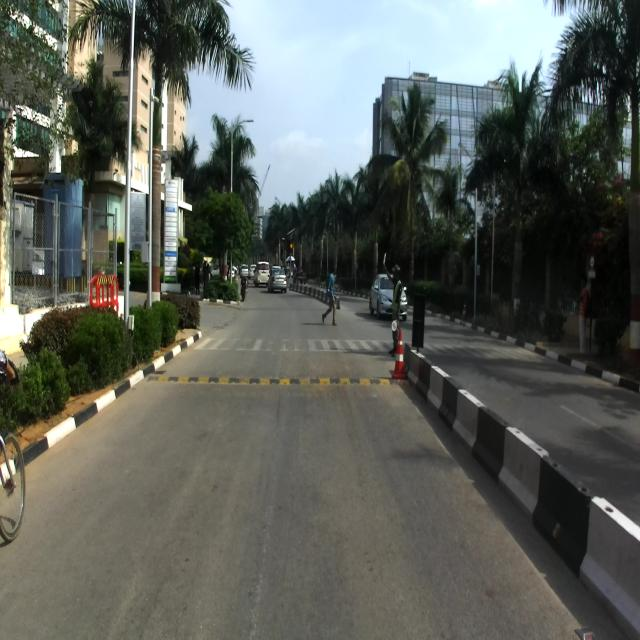barrier ahead at: (390, 321, 407, 386)
electric pole ahead at: (118, 1, 145, 333)
tree ahead at: (147, 56, 169, 319)
